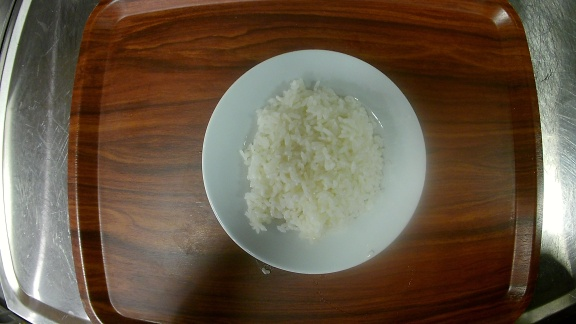pilav: (201, 48, 428, 273)
